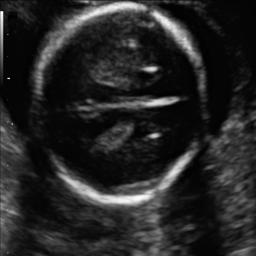normal: (38, 0, 207, 206)
